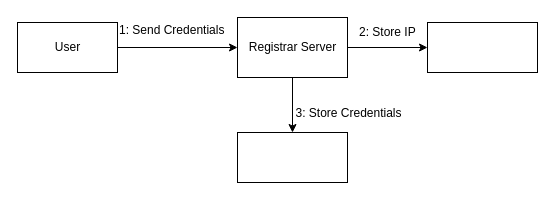
Some shapes in this 555 by 200 pixel diagram are drawn without their labels. The shapes that lost their labels are listed below. From the top down, each one's centre as x and y in pixels, then its label:
At pixel 482 47: "Location Server".
At pixel 292 157: "Darabase".
